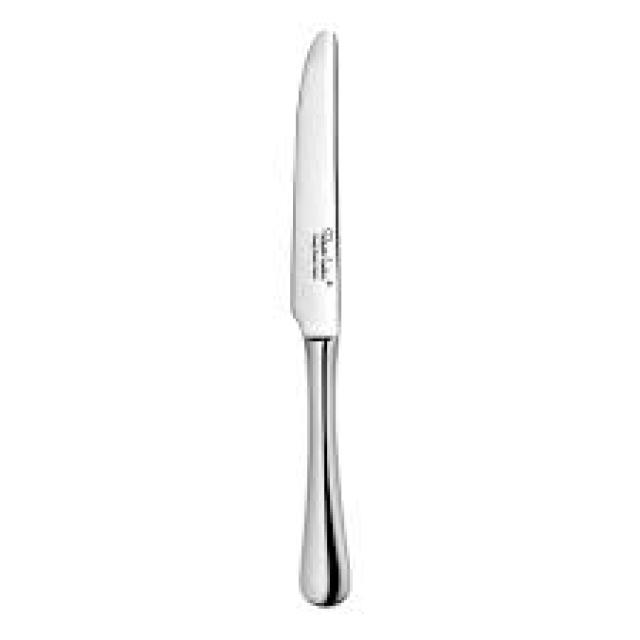knives: (282, 22, 356, 612)
